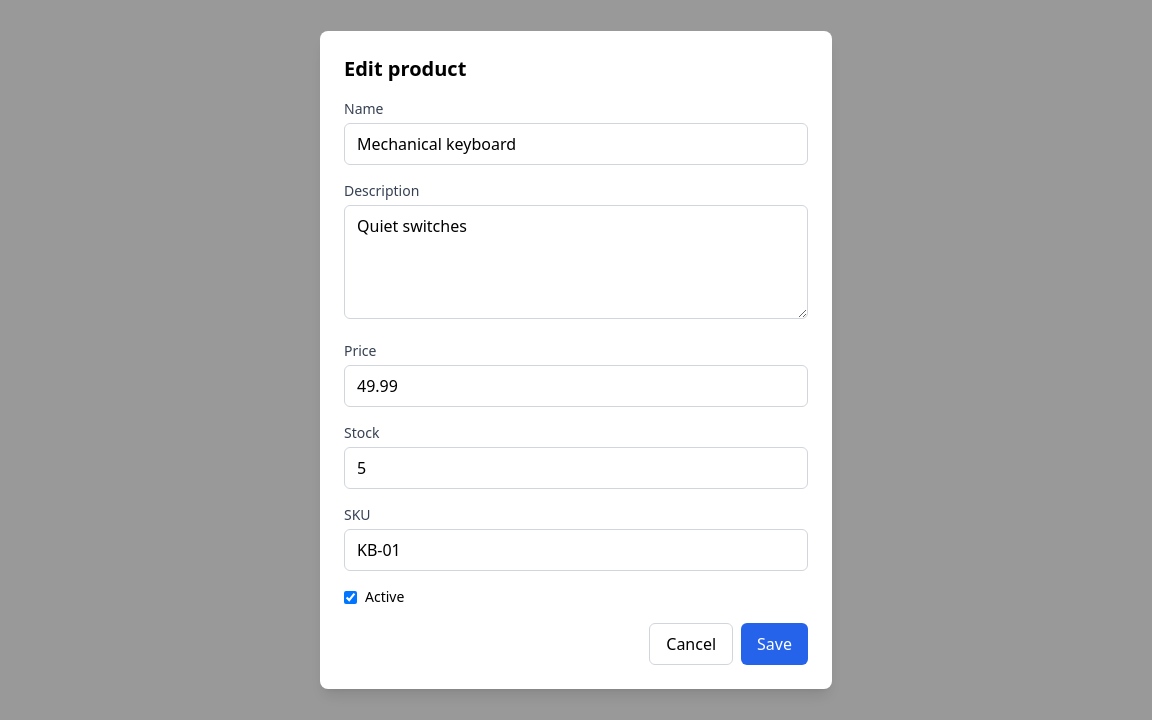
it: ProductFormModal (save flow) › renders 422 details under their fields, unknown keys as a form-level message, values intact
This screenshot has width=1152, height=720.
Click the button "Save": (775, 644) [741,623,808,665]
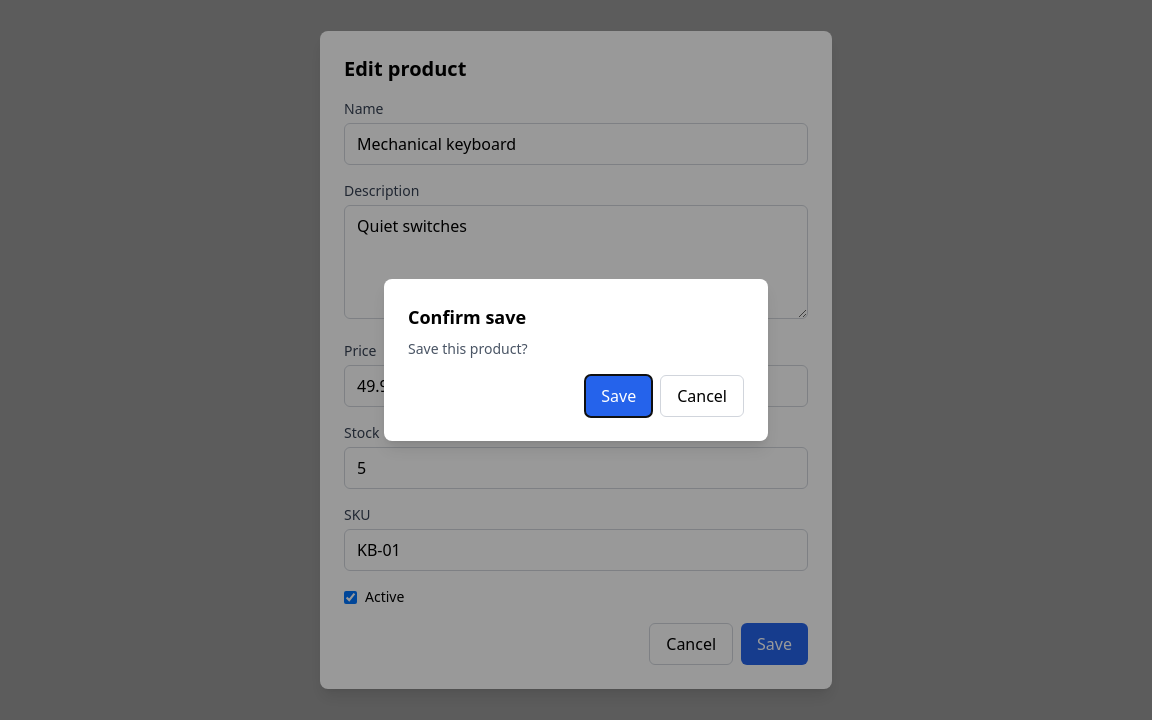
Click the button "Save": (619, 396) [585,375,652,417]
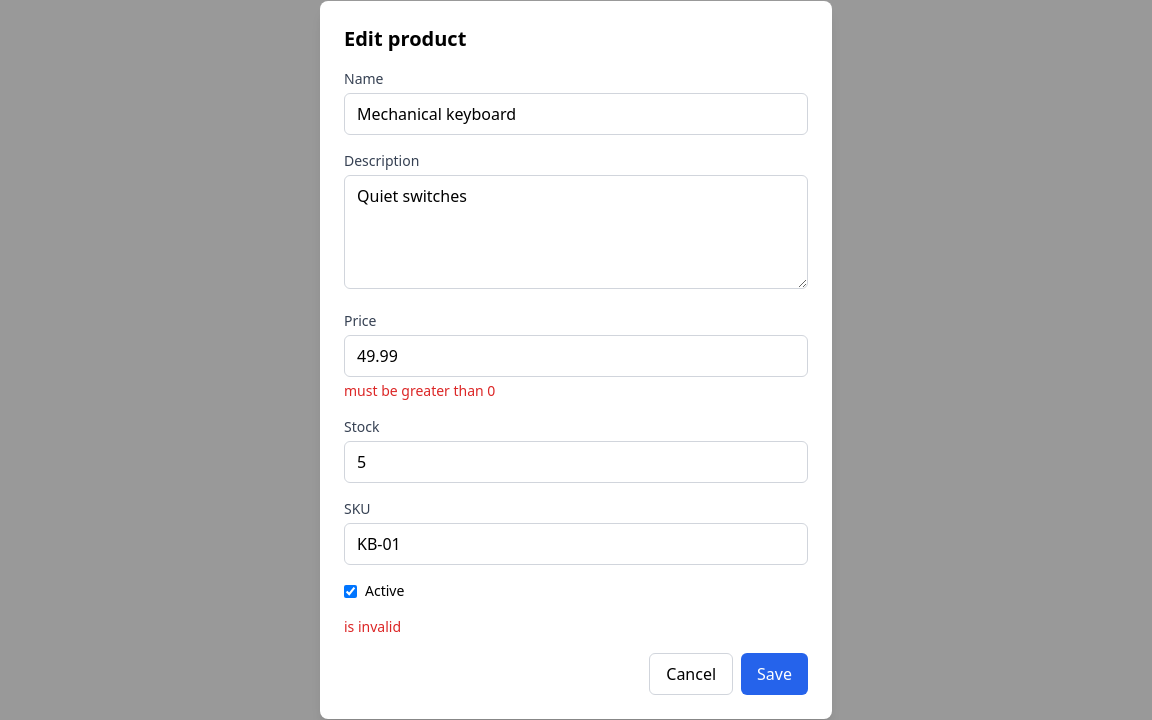
Expected: the field labelled "Price" holds "49.99", [344,335,808,377]
Expected: the text "must be greater than 0" is shown, [344,381,495,400]
Expected: the text "is invalid" is shown, [344,617,401,636]
